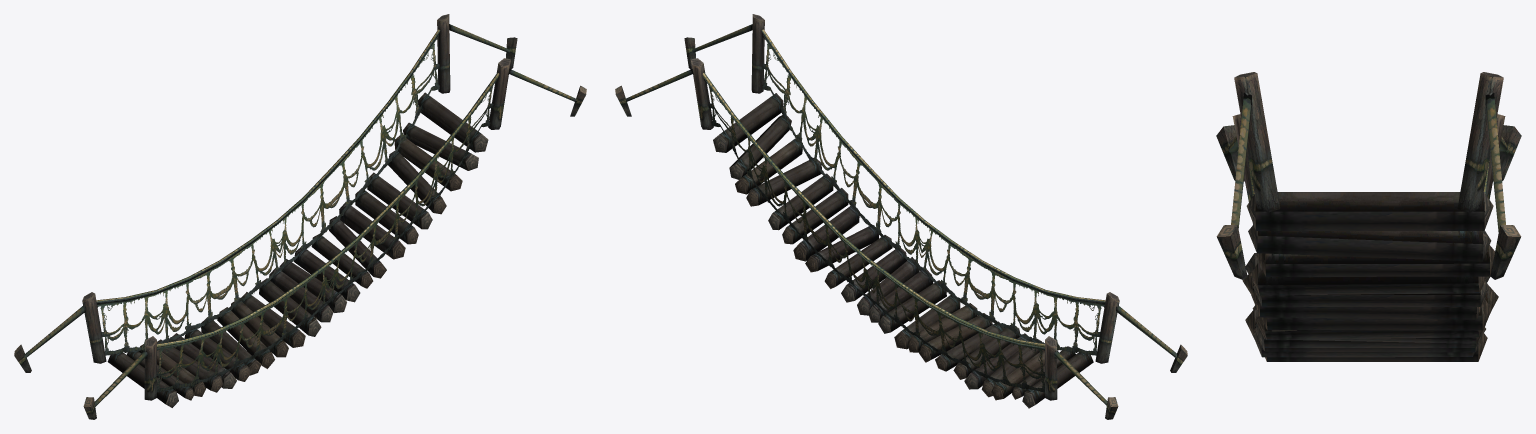
File: cave_bridge_tansition_02.fbx
The picture shows the model from 3 angles, left to right: view 1: azimuth 30°, elevation 25°; view 2: azimuth 150°, elevation 25°; view 3: azimuth 270°, elevation 25°; orthographic projection. The views are drawn at different scales.
Parts seen in each view (by area): view 1: cave_tileset/bridge01_shadow; view 2: cave_tileset/bridge01_shadow; view 3: cave_tileset/bridge01_shadow.
Boxes of the visible parts, x1=… form: cave_tileset/bridge01_shadow: x1=14, y1=14, x2=586, y2=419; cave_tileset/bridge01_shadow: x1=615, y1=14, x2=1187, y2=419; cave_tileset/bridge01_shadow: x1=1216, y1=72, x2=1521, y2=361.
Bounding box in the file's own units: 15.56 × 7.94 × 4.09.
